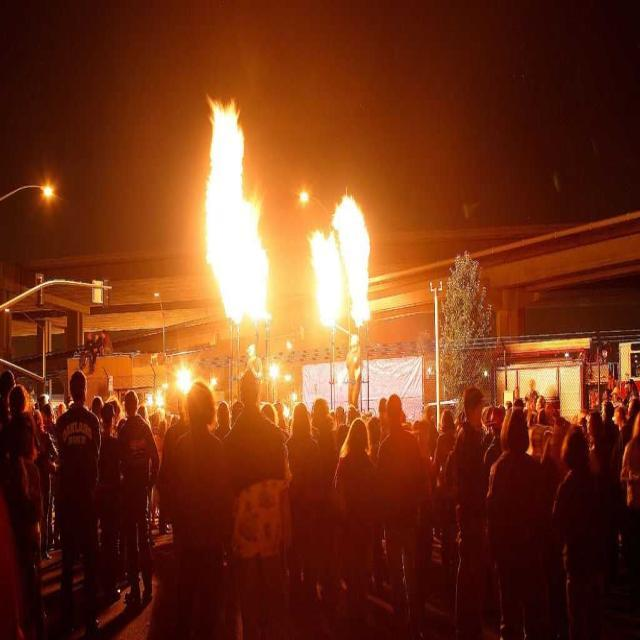Fire: (190, 78, 276, 316), (307, 176, 371, 338)
